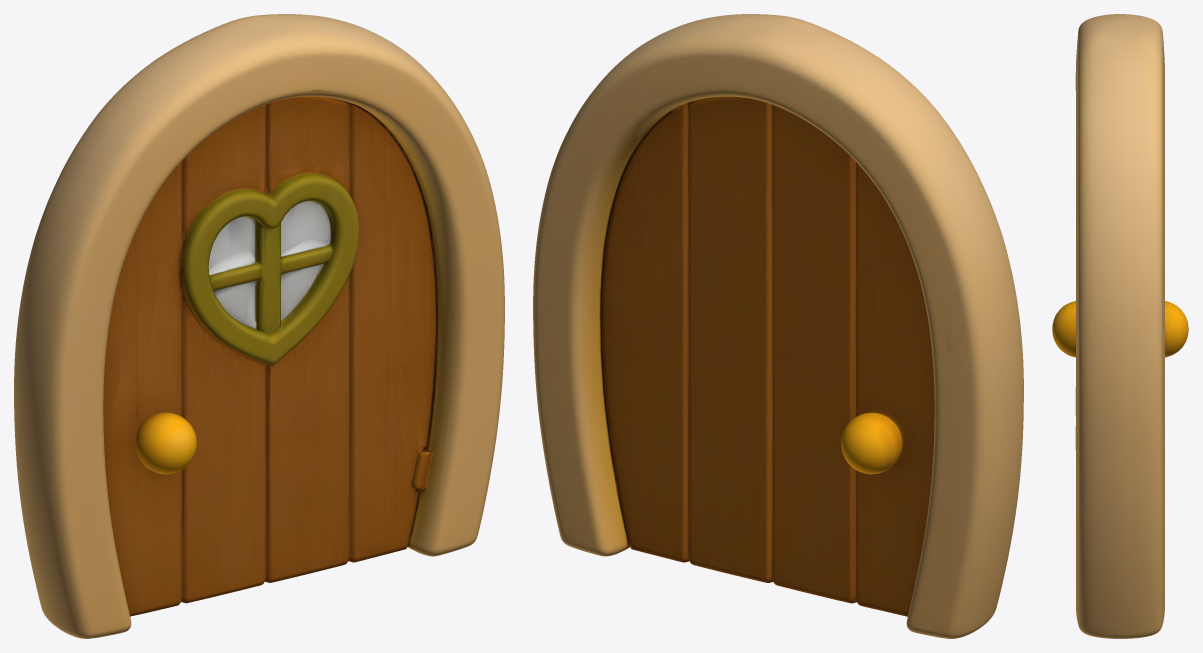
Rendered from door.glb.
The picture shows the model from 3 angles, left to right: view 1: azimuth 30°, elevation 25°; view 2: azimuth 150°, elevation 25°; view 3: azimuth 270°, elevation 25°; orthographic projection. The views are drawn at different scales.
Parts seen in each view (by area): view 1: node_0; view 2: node_0; view 3: node_0.
Part boxes in pixels (x1,y1,x2,y2): node_0: (14, 14, 504, 638); node_0: (533, 14, 1023, 638); node_0: (1052, 14, 1188, 638).
Size of the model in its own units: 0.8466 by 0.9638 by 0.2308.
1 material, 1 textured.
